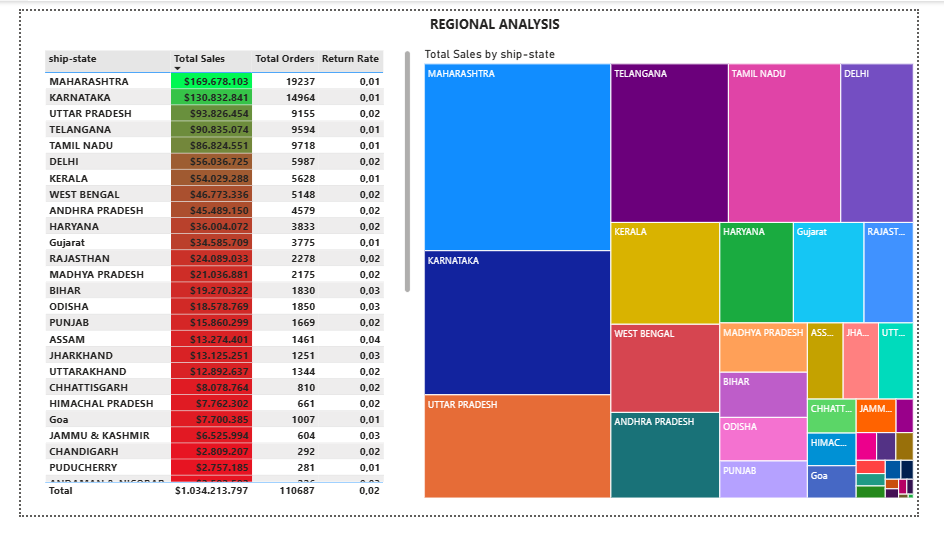

This screenshot's page, from the dashboard's own definition file:
{"tool":"powerbi","page":{"name":"Regional Analysis","canvas":[1280,720],"ordinal":1},"visuals":[{"type":"tableEx","fields":{"Values":["Amazon Sale Report.ship-state","Amazon Sale Report.Total Sales","Amazon Sale Report.Total Orders","Amazon Sale Report.Return Rate"]},"box":[27.9,51.4,533.4,649.5],"z":0},{"type":"treemap","fields":{"Group":["Amazon Sale Report.ship-state"],"Values":["Amazon Sale Report.Total Sales"]},"box":[571.6,51.4,708.2,649.5],"z":1000},{"type":"textbox","box":[504,0,345.3,51.4],"z":2000}]}

Visuals, with their boxes in screenshot pixels (x1, y1, x2, y2), scaled from the page's 1280x720 canvas onto the 944x538 screenshot:
tableEx - Amazon Sale Report.ship-state x Amazon Sale Report.Total Sales: [x1=21, y1=38, x2=414, y2=524]
treemap - Amazon Sale Report.ship-state x Amazon Sale Report.Total Sales: [x1=422, y1=38, x2=943, y2=524]
textbox: [x1=372, y1=0, x2=626, y2=38]
